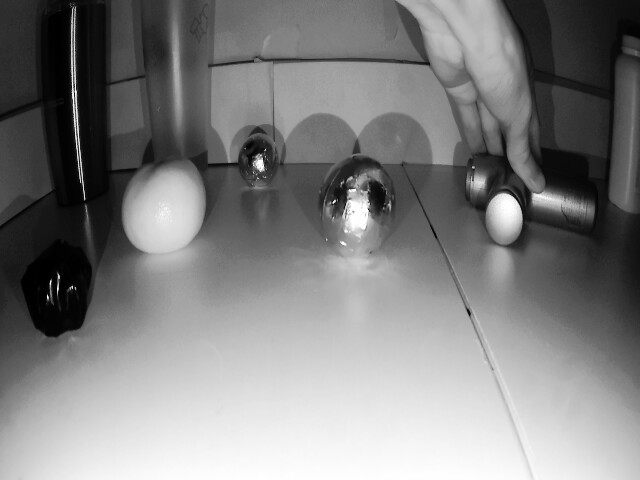black: (318, 153, 397, 263), (240, 131, 281, 191)
silver: (21, 244, 100, 332)
